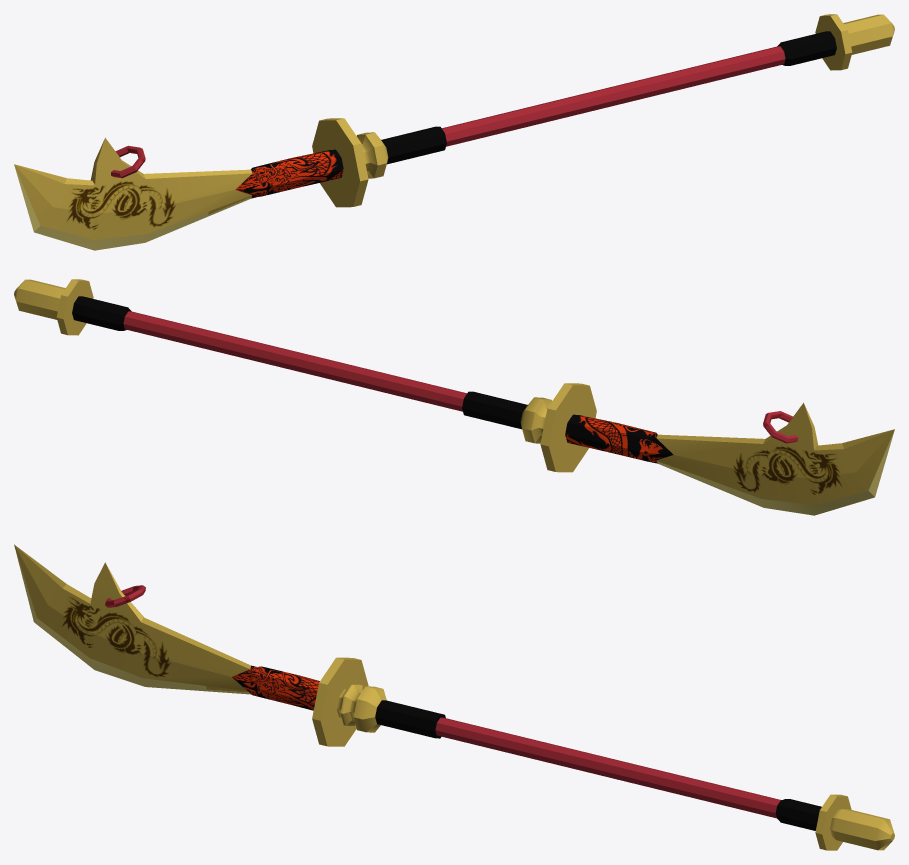
Rendered from dao.fbx.
The picture shows the model from 3 angles, top to bottom: view 1: azimuth 30°, elevation 25°; view 2: azimuth 150°, elevation 25°; view 3: azimuth 330°, elevation 25°; orthographic projection.
Parts seen in each view (by area): view 1: dai_dao; view 2: dai_dao; view 3: dai_dao.
Part boxes in pixels (x1,y1,x2,y2): dai_dao: (14, 14, 894, 250); dai_dao: (14, 279, 894, 515); dai_dao: (14, 544, 894, 850).
Bounding box in the file's own units: 16.87 × 2.32 × 1.6.
1 material, 1 textured.
